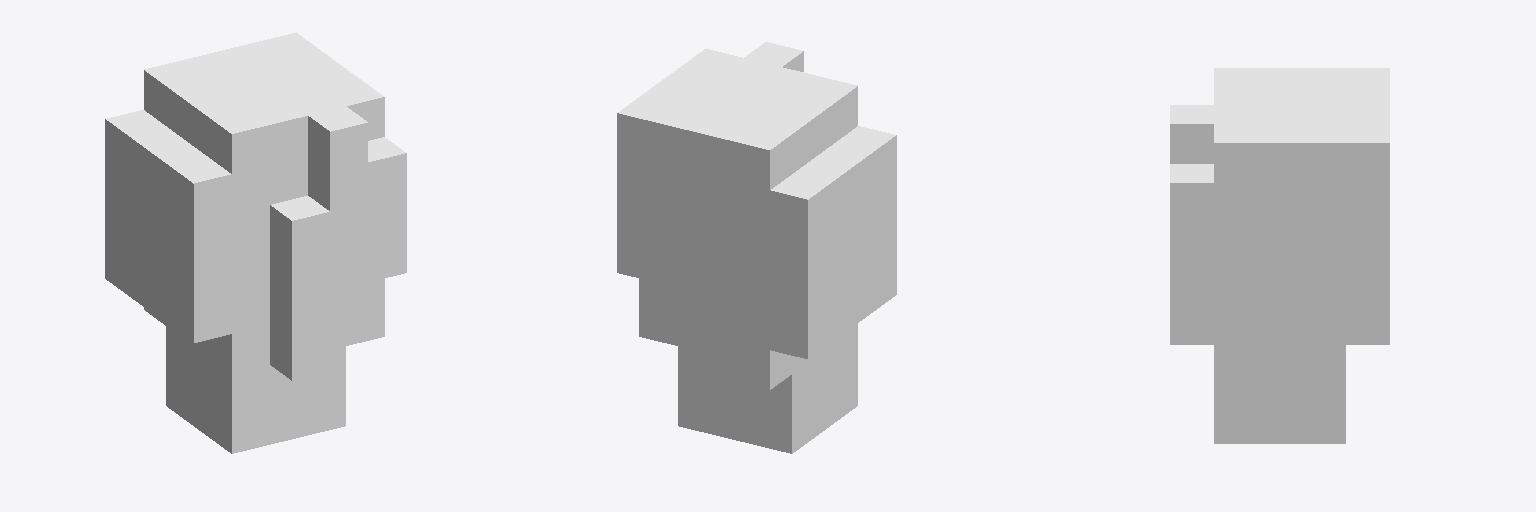
Rendered from Hend1.obj.
The picture shows the model from 3 angles: view 1: azimuth 30°, elevation 25°; view 2: azimuth 150°, elevation 25°; view 3: azimuth 270°, elevation 25°; orthographic projection.
Bounding box in the file's own units: 5 × 8 × 5.